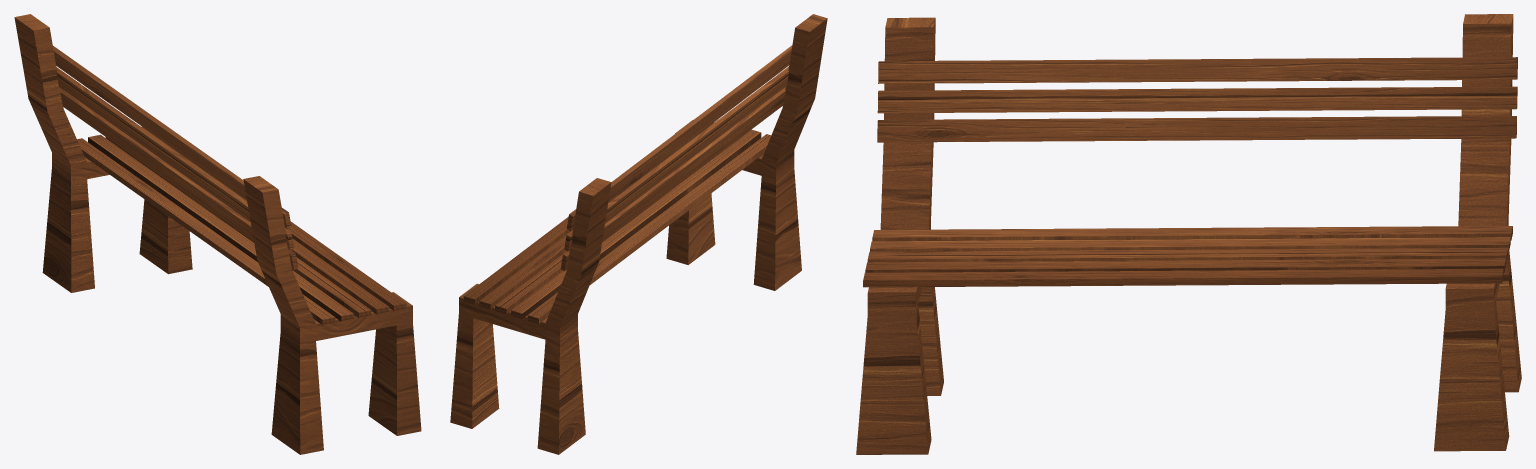
Rendered from bancamadera.obj.
3 views of the same model, side by side, from view 1: azimuth 30°, elevation 25°; view 2: azimuth 150°, elevation 25°; view 3: azimuth 270°, elevation 25° (orthographic). The views are drawn at different scales.
Parts seen in each view (by area): view 1: Maqueta:pasted__polySurface19group2; view 2: Maqueta:pasted__polySurface19group2; view 3: Maqueta:pasted__polySurface19group2.
Part boxes in pixels (x1=…): Maqueta:pasted__polySurface19group2: x1=14, y1=14, x2=421, y2=454; Maqueta:pasted__polySurface19group2: x1=450, y1=14, x2=827, y2=454; Maqueta:pasted__polySurface19group2: x1=856, y1=14, x2=1521, y2=454.
Bounding box in the file's own units: 0.393 × 0.6513 × 1.14.
Materials: 1 (1 with a texture image).
